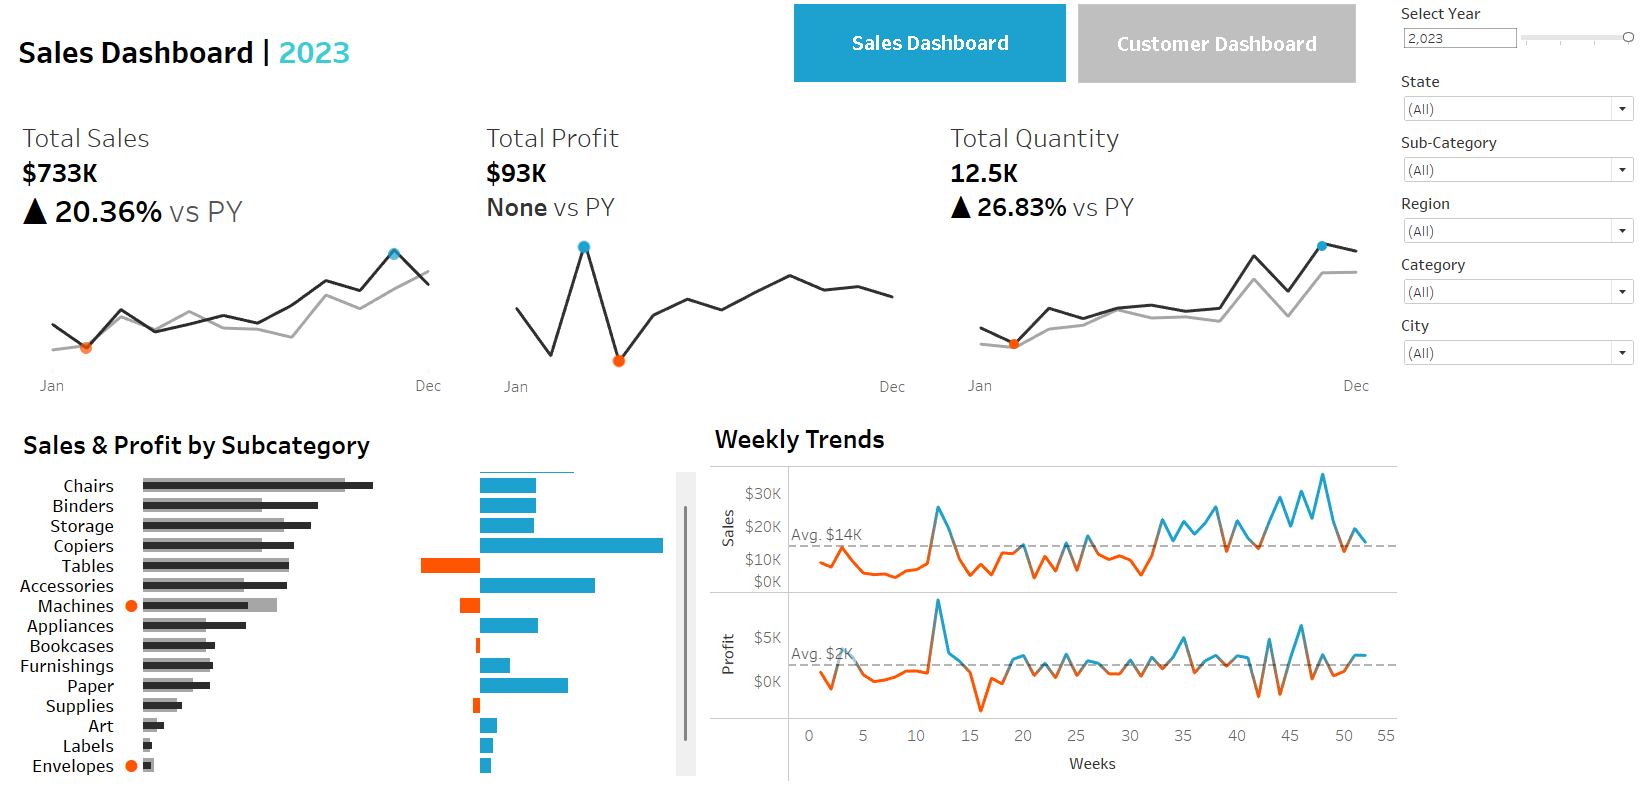

The dashboard page shown, as its layout file describes it:
{"tool":"tableau","page":{"name":"Sales Dashboard","canvas":[1000,1000],"units":"permille","ordinal":1},"visuals":[{"type":"parameter","param":"[Parameters].[Parameter 1]","box":[847.9,6.2,147.9,84.8]},{"type":"dashboard-object","box":[482.5,12.5,165,97.3]},{"type":"dashboard-object","box":[654.4,12.5,168.8,98.5]},{"type":"text","box":[10.3,52.5,218.8,37.5]},{"type":"filter","title":"KPI","param":"[federated.1mkbf4g0frdl8s1arfcaa14gogmr].[none:State:nk]","box":[847.9,91,147.9,76.1]},{"type":"worksheet","title":"KPI","mark":"Automatic","rows":["Calculation_1154610365764599812"],"cols":["Order Date"],"box":[6.2,139.7,281.2,376.6]},{"type":"worksheet","title":"Profit","mark":"Automatic","rows":["Calculation_1154610365776105484"],"cols":["Order Date"],"box":[287.5,139.7,281.2,376.6]},{"type":"worksheet","title":"Quantity","mark":"Automatic","rows":["Calculation_1154610365784440851"],"cols":["Order Date"],"box":[568.8,139.7,281.2,376.6]},{"type":"filter","title":"KPI","param":"[federated.1mkbf4g0frdl8s1arfcaa14gogmr].[none:Sub-Category:nk]","box":[847.9,167.1,147.9,76.1]},{"type":"filter","title":"KPI","param":"[federated.1mkbf4g0frdl8s1arfcaa14gogmr].[none:Region:nk]","box":[847.9,243.2,147.9,76.1]},{"type":"filter","title":"KPI","param":"[federated.1mkbf4g0frdl8s1arfcaa14gogmr].[none:Category:nk]","box":[847.9,319.2,147.9,76.1]},{"type":"filter","title":"KPI","param":"[federated.1mkbf4g0frdl8s1arfcaa14gogmr].[none:City:nk]","box":[847.9,395.3,147.9,103.5]},{"type":"worksheet","title":"Subcategory Comparison","mark":"Bar","rows":["Sub-Category","Calculation_1154610365796753432"],"cols":["Calculation_1154610365759823873","Calculation_1154610365759578112","Calculation_1154610365772959753"],"box":[6.7,522.4,422.4,465.1]},{"type":"worksheet","title":"Weekly Trends","mark":"Automatic","rows":["Calculation_1154610365759578112","Calculation_1154610365772959753"],"cols":["Order Date"],"box":[429.1,522.4,421.8,465.1]}]}

Visuals, with their boxes on the dashboard's canvas, which has no fixed pixel size, in thousandths of its width and height (x1, y1, x2, y2). These are canvas units, not pixel positions in the 1648x785 screenshot, which may show the page scaled, cropped or inside an application window:
parameter: [848,6,996,91]
dashboard-object: [482,12,648,110]
dashboard-object: [654,12,823,111]
text: [10,52,229,90]
"KPI" filter: [848,91,996,167]
"KPI" worksheet: [6,140,287,516]
"Profit" worksheet: [288,140,569,516]
"Quantity" worksheet: [569,140,850,516]
"KPI" filter: [848,167,996,243]
"KPI" filter: [848,243,996,319]
"KPI" filter: [848,319,996,395]
"KPI" filter: [848,395,996,499]
"Subcategory Comparison" worksheet (Bar marks): [7,522,429,988]
"Weekly Trends" worksheet: [429,522,851,988]
